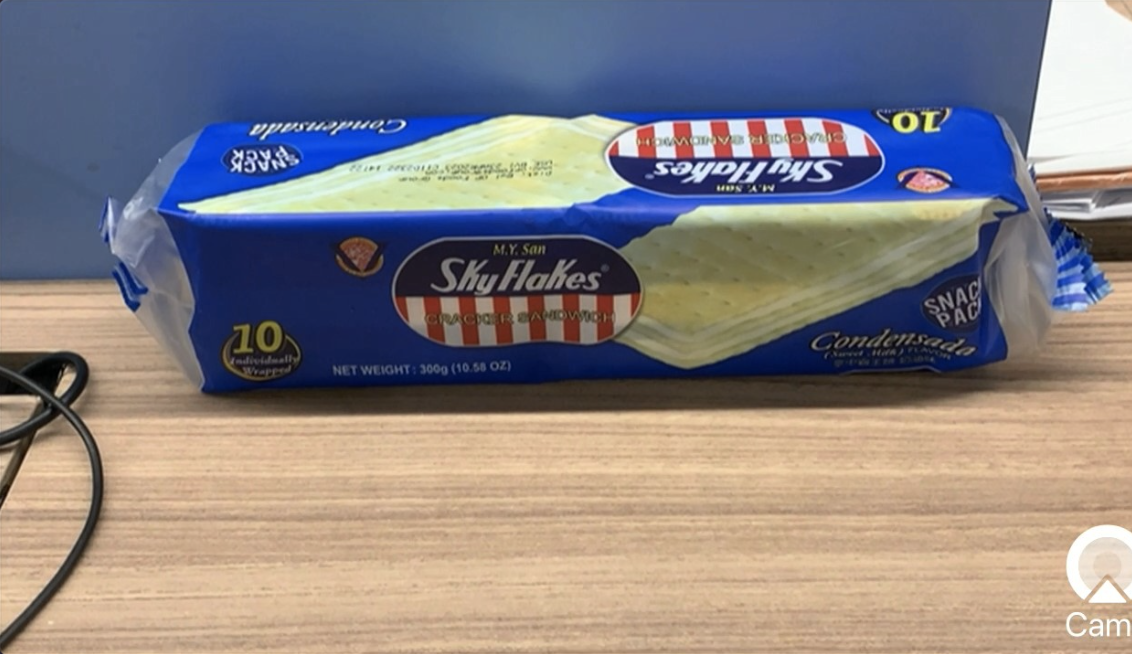crackers_300g-399g: (216, 129, 1001, 371)
